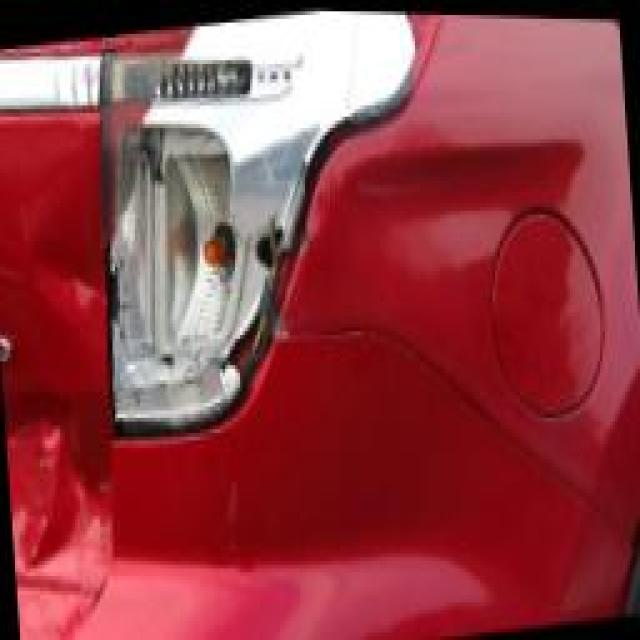Dickey: (2, 361, 125, 640)
Light: (98, 4, 358, 432)
